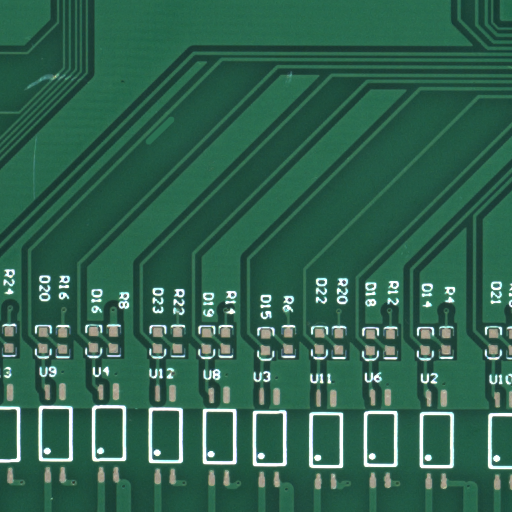Spurious_copper: (159, 129, 190, 158)
